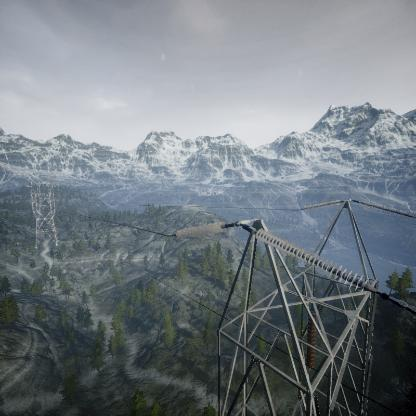insulator: (242, 225, 389, 298), (355, 199, 416, 221), (168, 221, 233, 240), (301, 198, 343, 213)
tower: (26, 178, 63, 250)
